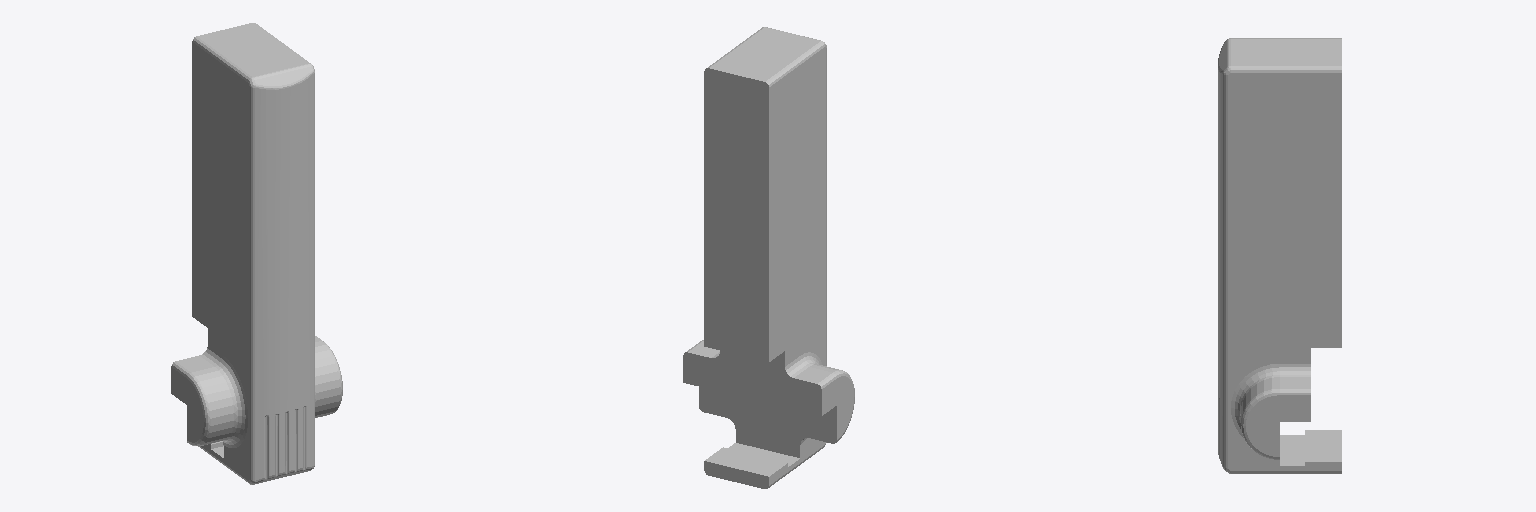
File: AXE2.obj
3 renders of one model, left to right at view 1: azimuth 30°, elevation 25°; view 2: azimuth 150°, elevation 25°; view 3: azimuth 270°, elevation 25°, orthographic.
Visible parts, largest first — view 1: AXE2_cmm_asm_asm.004; view 2: AXE2_cmm_asm_asm.004; view 3: AXE2_cmm_asm_asm.004.
Boxes of the visible parts, box(x1,y1,x2,y2) form: AXE2_cmm_asm_asm.004: box(171, 23, 342, 484); AXE2_cmm_asm_asm.004: box(683, 27, 854, 488); AXE2_cmm_asm_asm.004: box(1218, 38, 1341, 473).
Size of the model in its own units: 0.32 by 0.9 by 0.25.